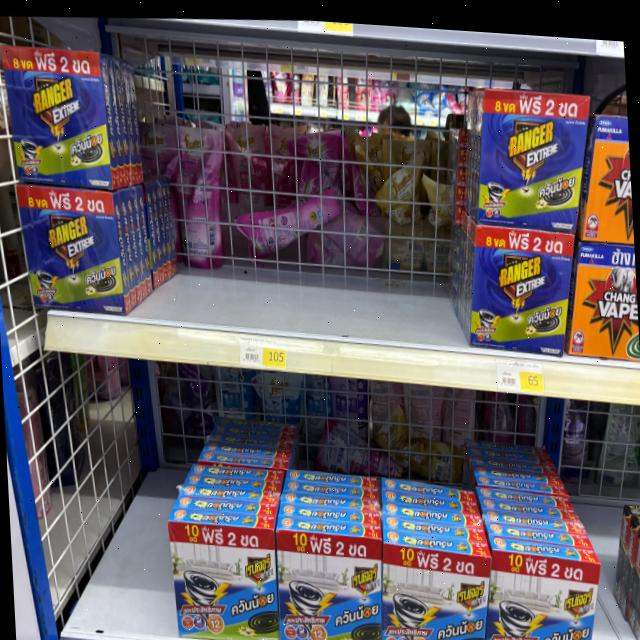empty_shelf: (125, 60, 475, 347), (174, 374, 594, 558), (37, 395, 178, 636)
